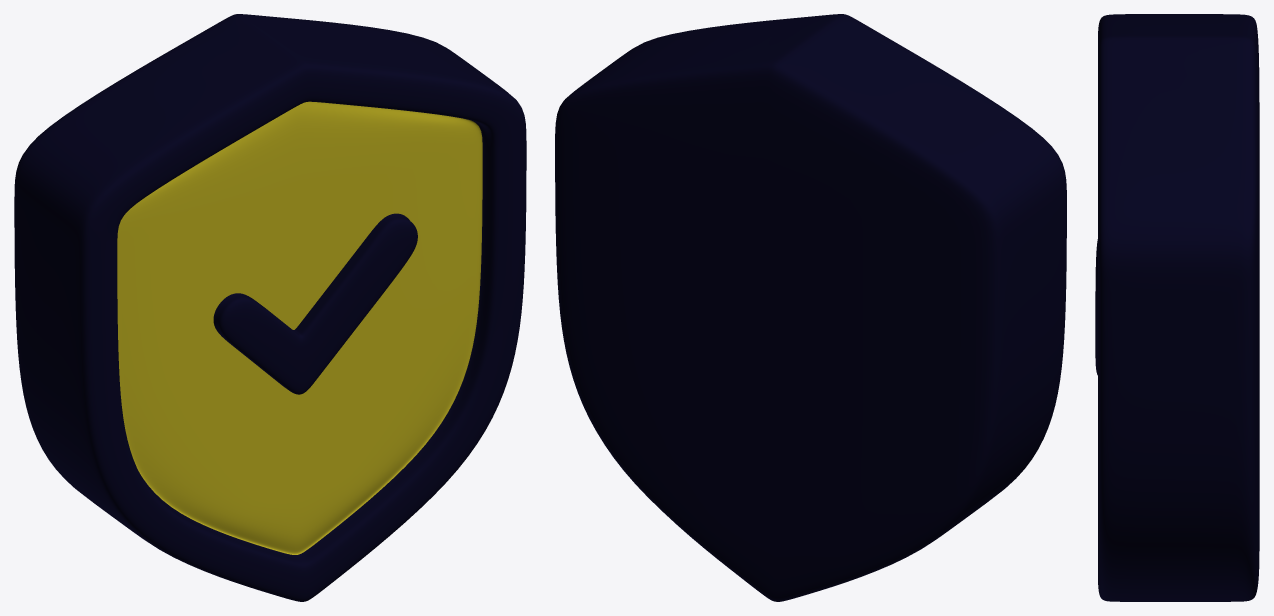
Rendered from segurityfin.glb.
3 renders of one model, left to right at view 1: azimuth 30°, elevation 25°; view 2: azimuth 150°, elevation 25°; view 3: azimuth 270°, elevation 25°, orthographic. The views are drawn at different scales.
Visible parts, largest first — view 1: Shield; view 2: Shield; view 3: Shield.
Boxes of the visible parts, x1=… form: Shield: x1=14, y1=14, x2=526, y2=601; Shield: x1=555, y1=14, x2=1066, y2=601; Shield: x1=1095, y1=14, x2=1259, y2=601.
Size of the model in its own units: 1.68 by 1.94 by 0.5127.
